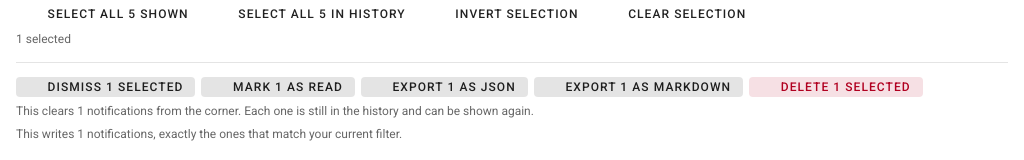
export › copies as Markdown through the same formatter the single-item copy button uses
What coordinates should you click on to do the following:
click the button "Export 1 as Markdown"
I would click on:
 (638, 87)
Its box is top-left (534, 77), bottom-right (743, 97).
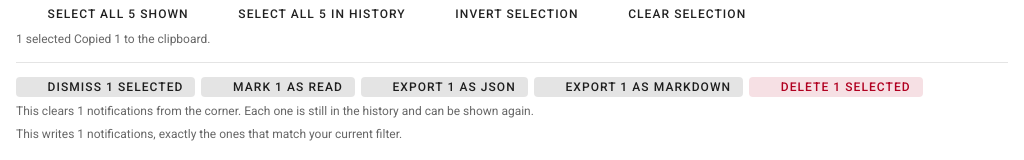
Result: the text "Copied 1 to the clipboard." is shown at top-left (74, 32), bottom-right (210, 46)
